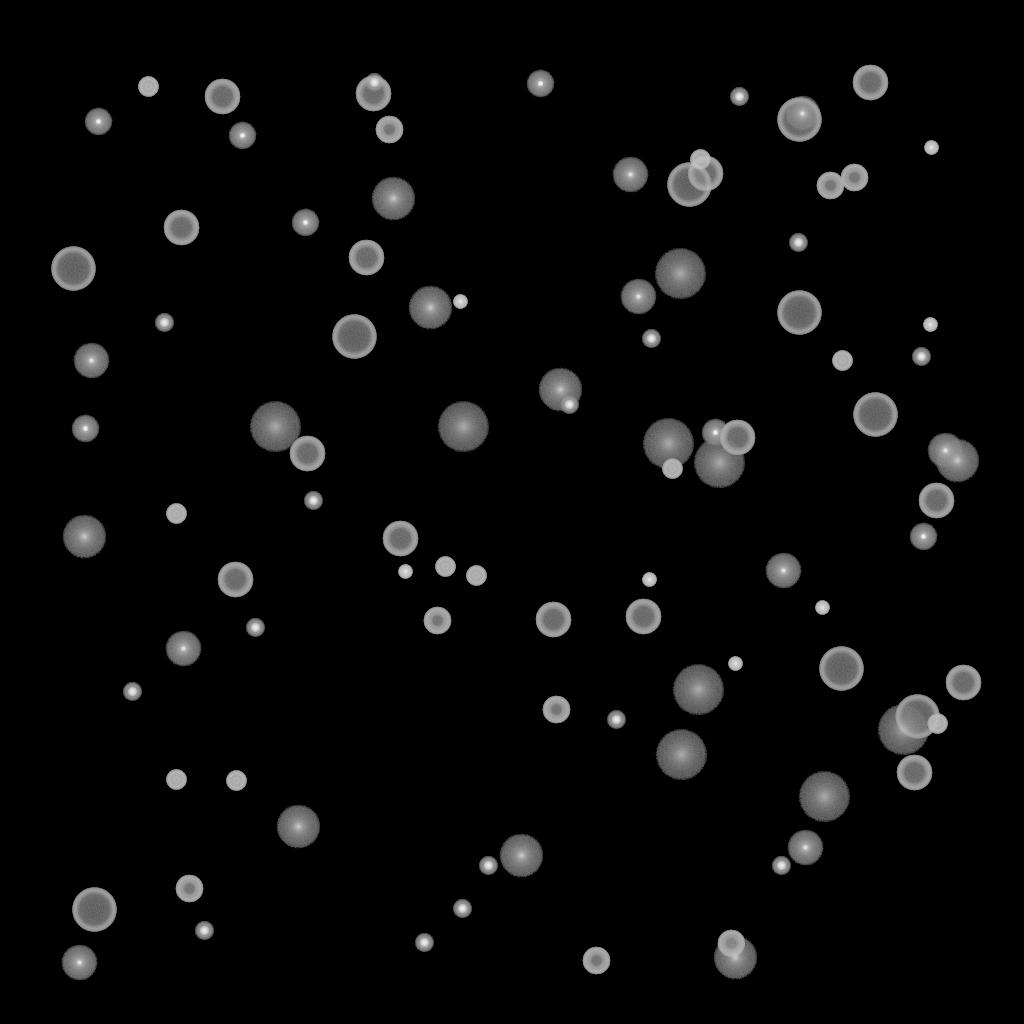depth:-10: (291, 209, 319, 237), (84, 108, 112, 136), (701, 419, 729, 447), (71, 415, 99, 443), (228, 122, 256, 150), (526, 70, 554, 98), (909, 523, 937, 551)
depth:-20: (304, 492, 322, 510), (246, 619, 264, 637), (453, 900, 471, 918), (155, 314, 173, 332), (365, 74, 383, 92), (642, 330, 660, 348), (912, 348, 930, 366), (479, 857, 497, 875), (607, 711, 625, 729), (195, 922, 213, 940), (123, 683, 141, 701), (789, 234, 807, 252), (415, 934, 433, 952), (772, 857, 790, 875), (560, 396, 578, 414), (730, 88, 748, 106)
depth:-30: (453, 295, 467, 309), (642, 573, 656, 587), (924, 141, 938, 155), (815, 601, 829, 615), (398, 565, 412, 579), (728, 657, 742, 671), (923, 318, 937, 332)
depth:-40: (690, 150, 710, 170), (226, 771, 246, 791), (832, 351, 852, 371), (927, 714, 947, 734), (138, 77, 158, 97), (466, 566, 486, 586), (166, 770, 186, 790), (662, 459, 682, 479), (166, 504, 186, 524), (435, 557, 455, 577)
depth:-50: (840, 164, 868, 192), (816, 172, 844, 200), (582, 947, 610, 975), (717, 930, 745, 958), (423, 607, 451, 635), (542, 696, 570, 724), (375, 116, 403, 144), (175, 875, 203, 903)
depth:-60: (382, 521, 418, 557), (535, 602, 571, 638), (348, 240, 384, 276), (163, 210, 199, 246), (687, 156, 723, 192), (625, 599, 661, 635), (289, 436, 325, 472), (719, 420, 755, 456), (918, 483, 954, 519), (217, 562, 253, 598), (852, 65, 888, 101), (896, 755, 932, 791), (204, 79, 240, 115), (945, 665, 981, 701), (355, 76, 391, 112)
depth:-70: (853, 393, 897, 437), (72, 888, 116, 932), (895, 695, 939, 739), (777, 291, 821, 335), (332, 315, 376, 359), (51, 247, 95, 291), (667, 163, 711, 207), (777, 98, 821, 142), (819, 647, 863, 691)
depth:0: (927, 433, 963, 469), (612, 157, 648, 193), (61, 945, 97, 981), (784, 96, 820, 132), (787, 830, 823, 866), (765, 553, 801, 589), (165, 631, 201, 667), (620, 279, 656, 315), (73, 343, 109, 379)
depth:10: (62, 515, 106, 559), (408, 286, 452, 330), (713, 936, 757, 980), (371, 177, 415, 221), (538, 368, 582, 412), (499, 834, 543, 878), (935, 439, 979, 483), (276, 805, 320, 849)
depth:20: (693, 438, 745, 488), (655, 730, 707, 780), (249, 402, 301, 452), (877, 705, 929, 755), (798, 772, 850, 822), (672, 665, 724, 715), (642, 419, 694, 469), (654, 249, 706, 299), (437, 402, 489, 452)
